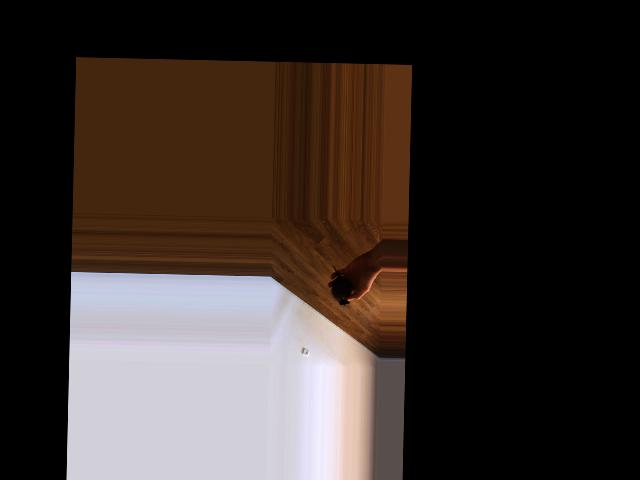beet: (330, 266, 353, 305)
